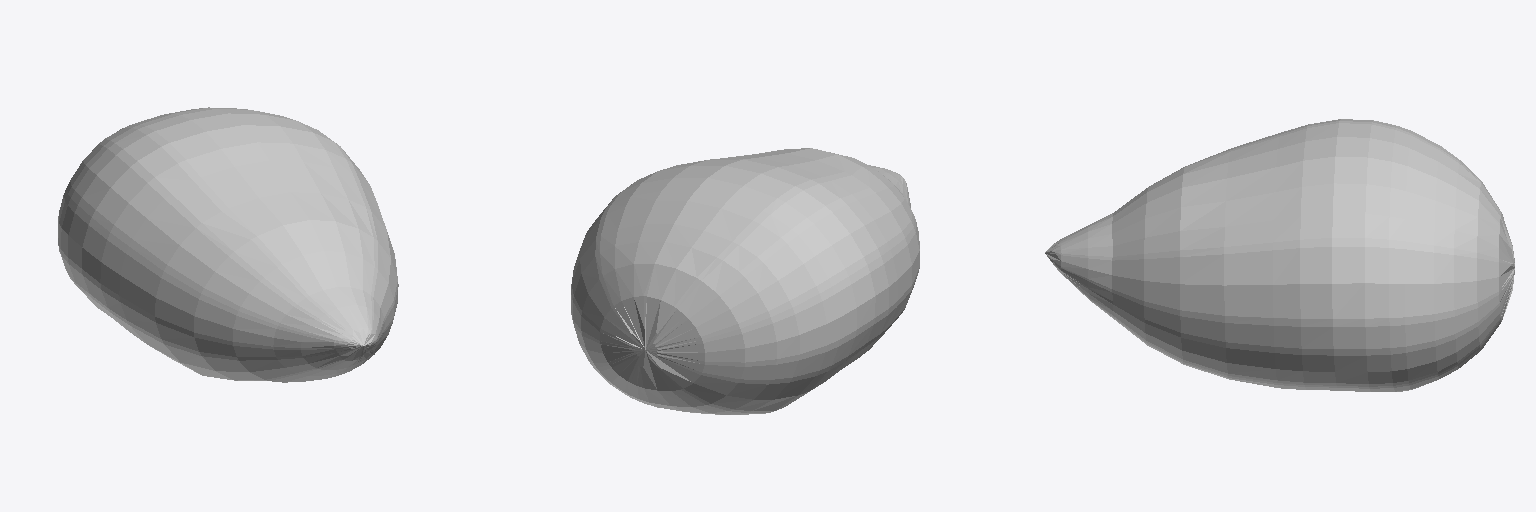
The model's file is popCornBullet.obj.
3 views of the same model, side by side, from view 1: azimuth 30°, elevation 25°; view 2: azimuth 150°, elevation 25°; view 3: azimuth 270°, elevation 25° (orthographic).
Visible parts, largest first — view 1: corn_these:Mesh; view 2: corn_these:Mesh; view 3: corn_these:Mesh.
Boxes of the visible parts, x1=… form: corn_these:Mesh: x1=58, y1=107, x2=398, y2=382; corn_these:Mesh: x1=571, y1=148, x2=919, y2=414; corn_these:Mesh: x1=1045, y1=119, x2=1514, y2=391.
Size of the model in its own units: 0.1944 by 0.1433 by 0.281.